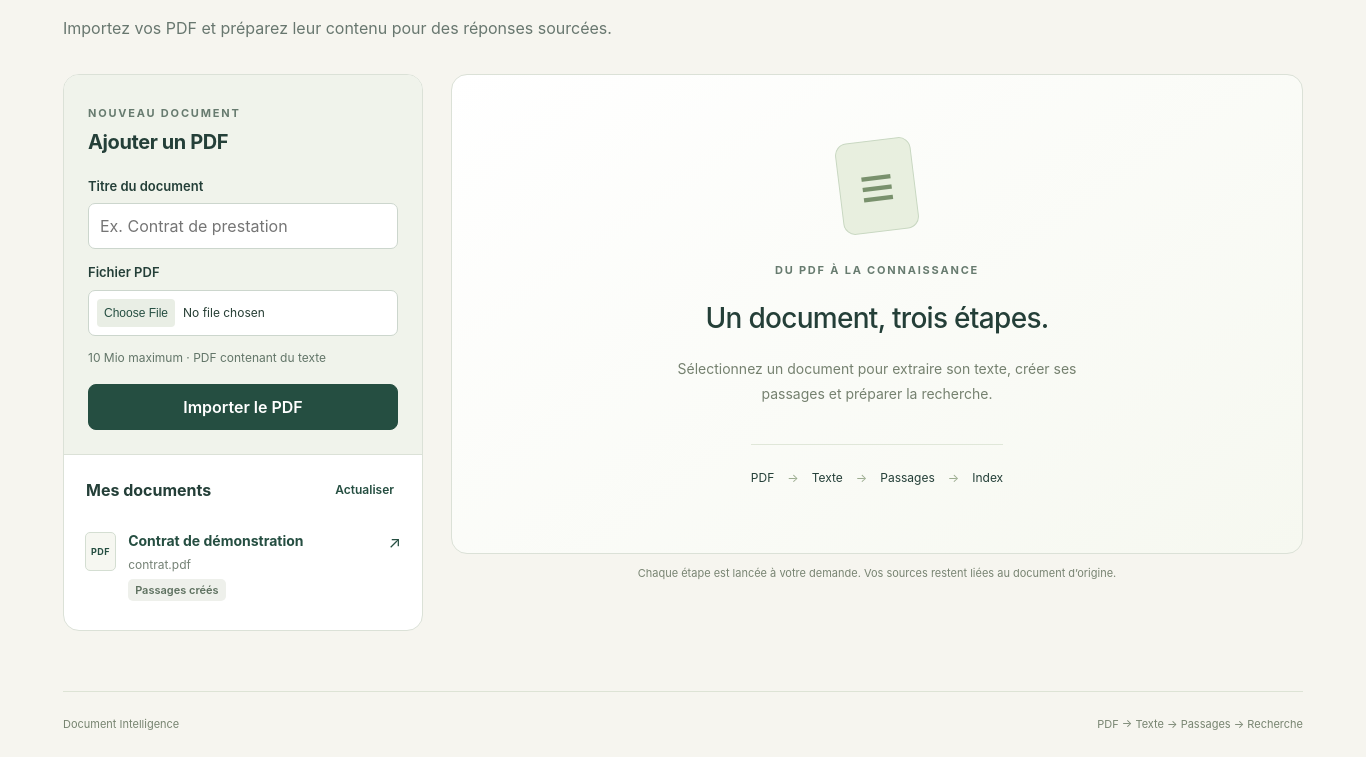
it: Documents › preserves the chunked status when Gemini quota prevents indexing
(page scrolled)
Click the button "PDF Contrat de démonstration contrat.pdf Passages créés ↗" at (101, 552), box [74,515,412,616]
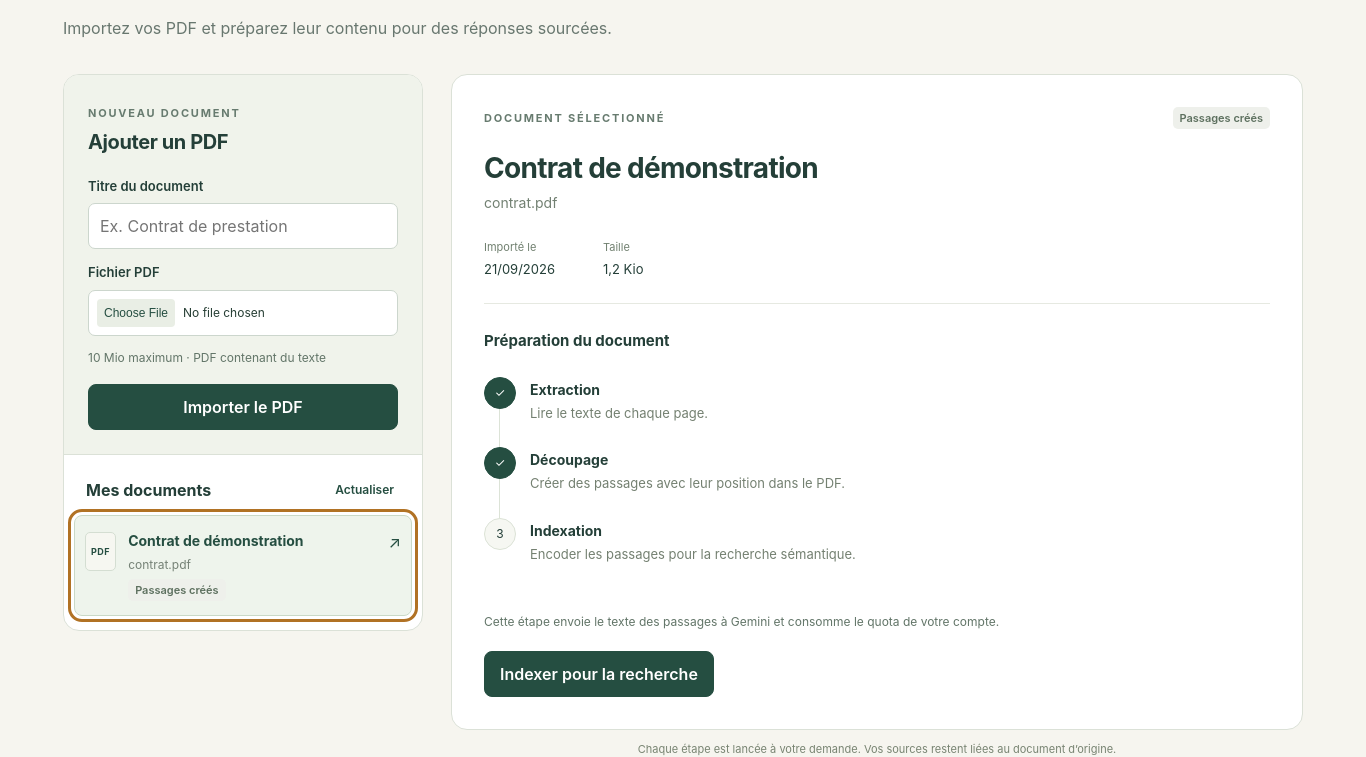
Click the button "Indexer pour la recherche" at (599, 674), box [484,652,714,698]
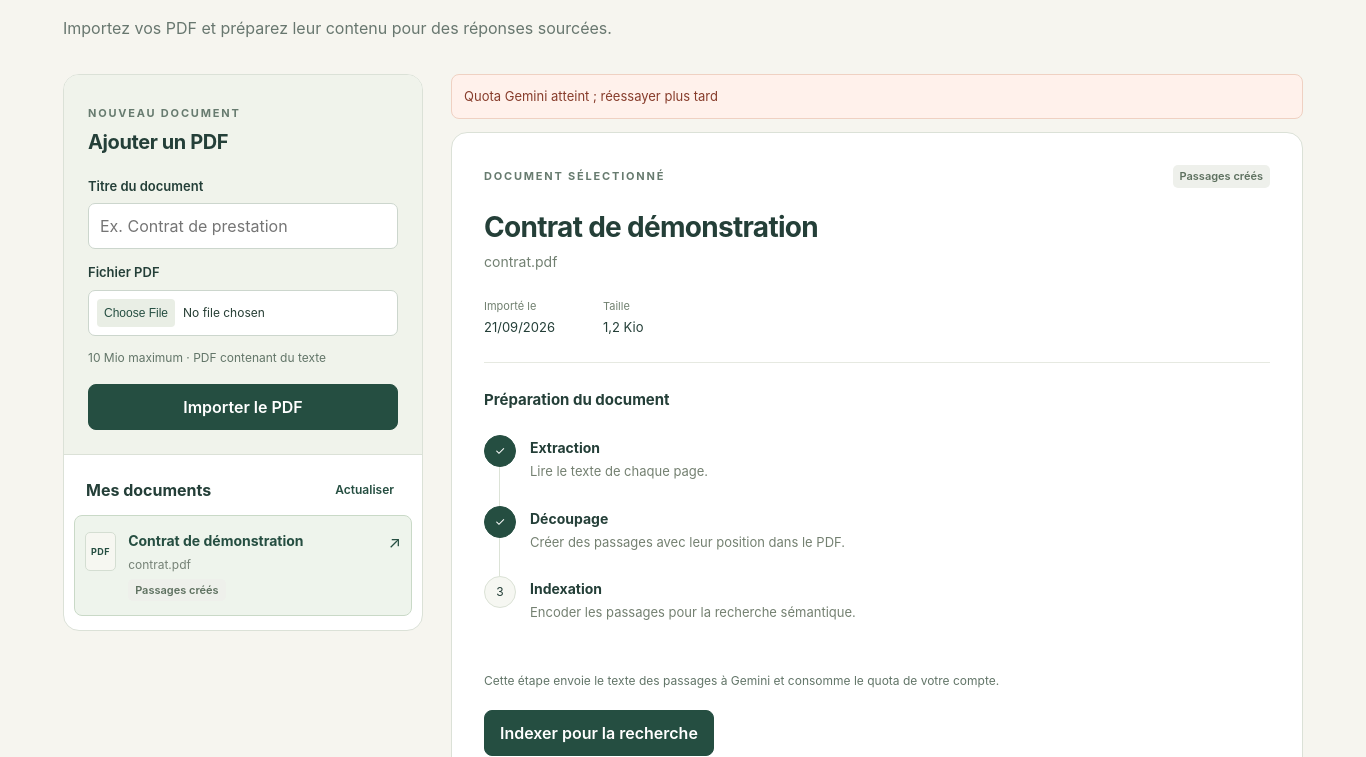
Result: the button "Indexer pour la recherche" is enabled at [484,710,714,756]
Result: the message shows "Quota Gemini atteint" at [464,88,718,104]
